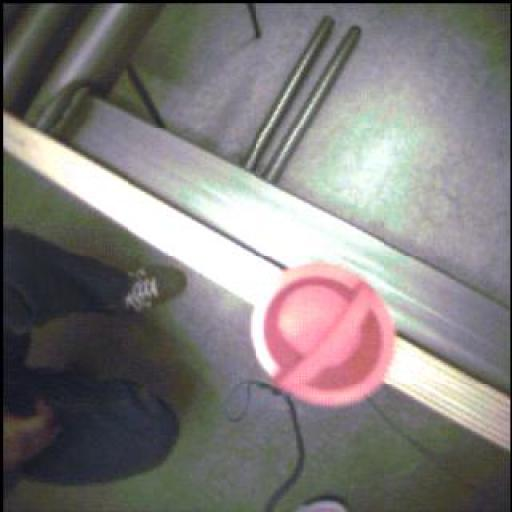Bucket: (247, 253, 405, 418)
